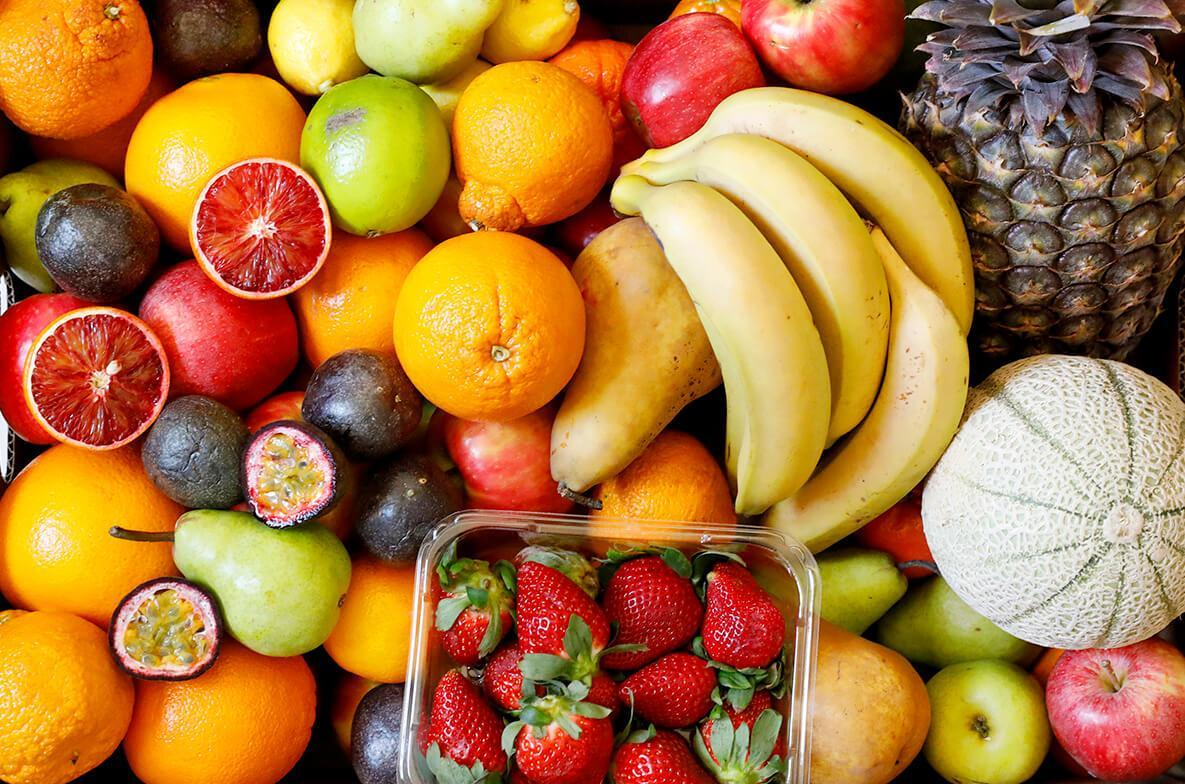apple: (136, 260, 304, 412), (1044, 636, 1185, 781), (622, 11, 762, 147), (736, 1, 908, 94)
